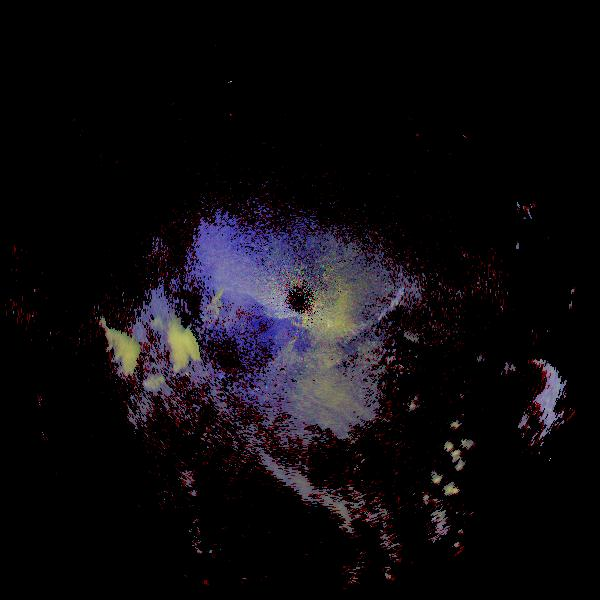roost: (108, 303, 219, 414), (151, 277, 241, 367)
